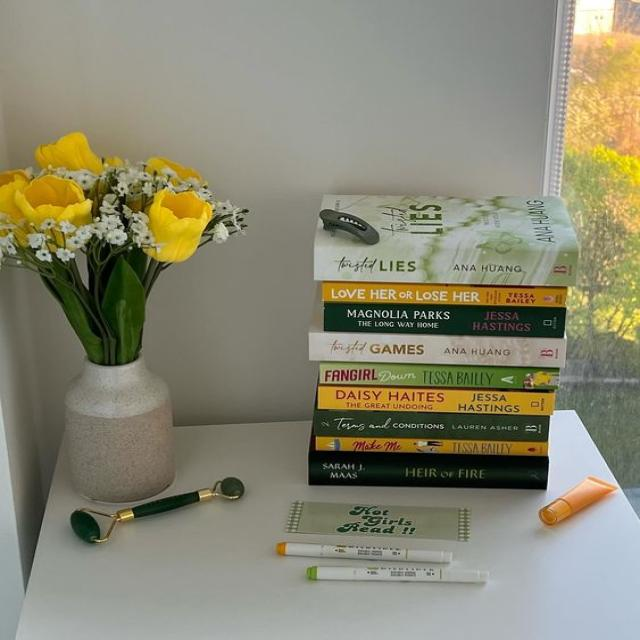book: (315, 195, 577, 286), (309, 333, 565, 368), (324, 303, 565, 337), (313, 409, 547, 444), (309, 454, 547, 488), (316, 384, 554, 415), (319, 364, 558, 390), (323, 283, 565, 306), (314, 436, 547, 455)
flowers: (0, 133, 247, 503)
